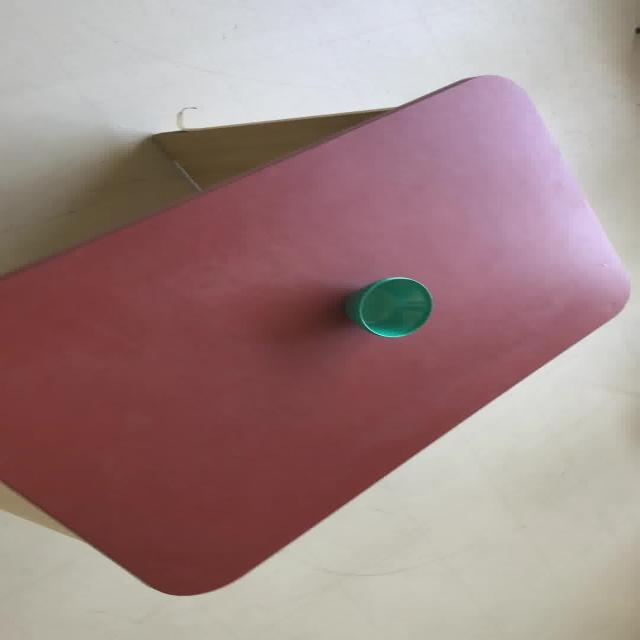bowl: (1, 73, 631, 596)
